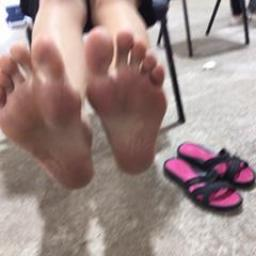Plantar View -Both Feet-: (1, 24, 170, 195)
